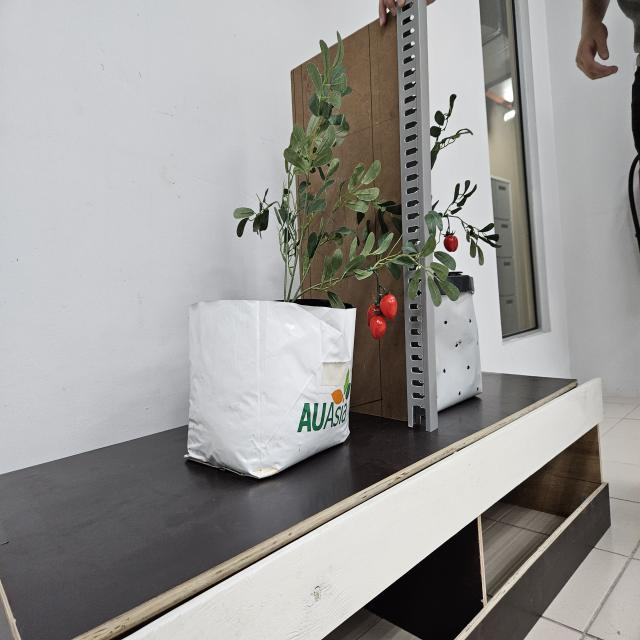Obstacle: (396, 0, 437, 429), (327, 14, 401, 212), (340, 267, 407, 421)
Soilbag: (185, 301, 357, 482)
plant: (232, 33, 460, 341)
